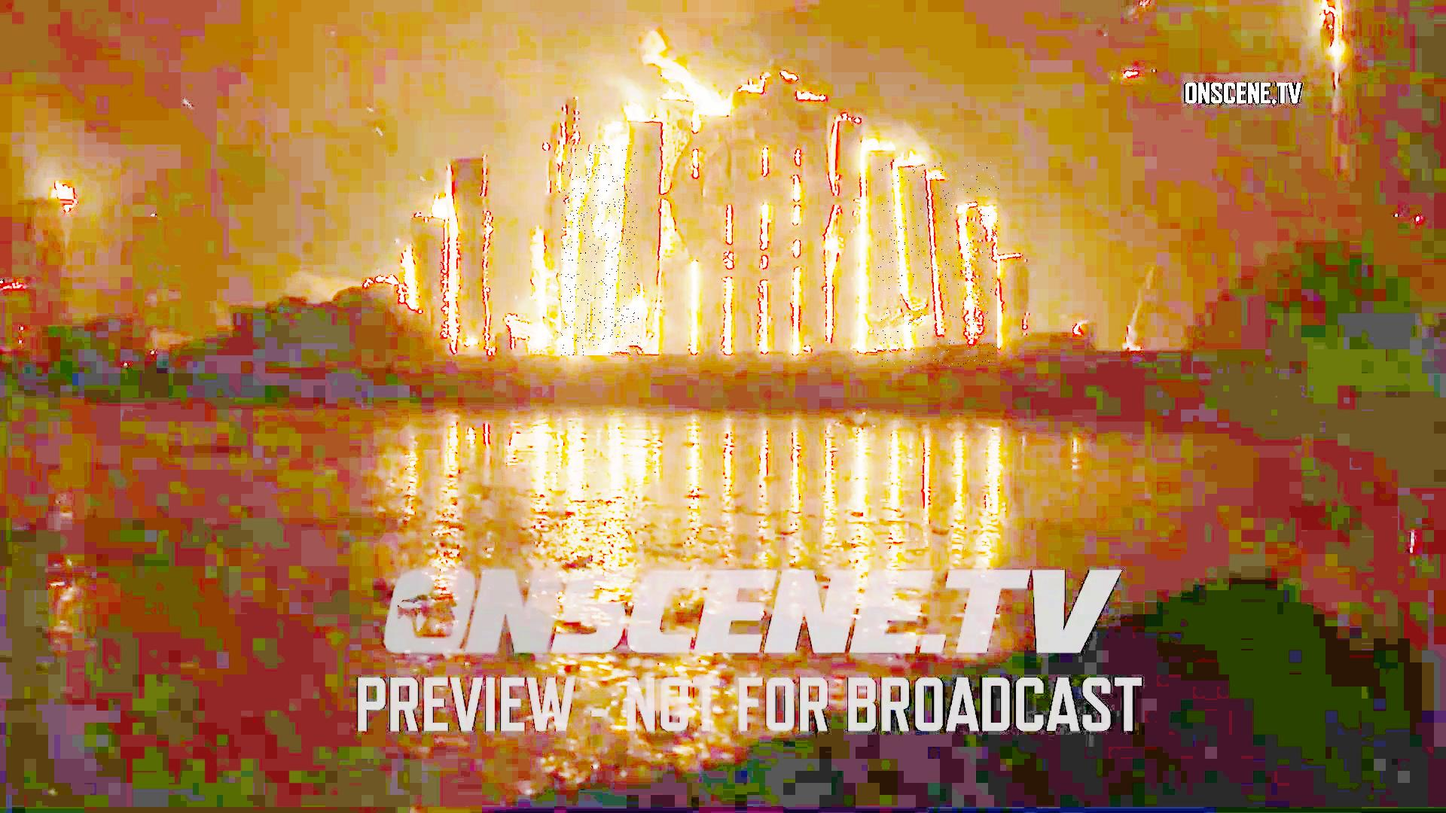fire: (878, 162, 999, 368), (562, 145, 639, 357)
